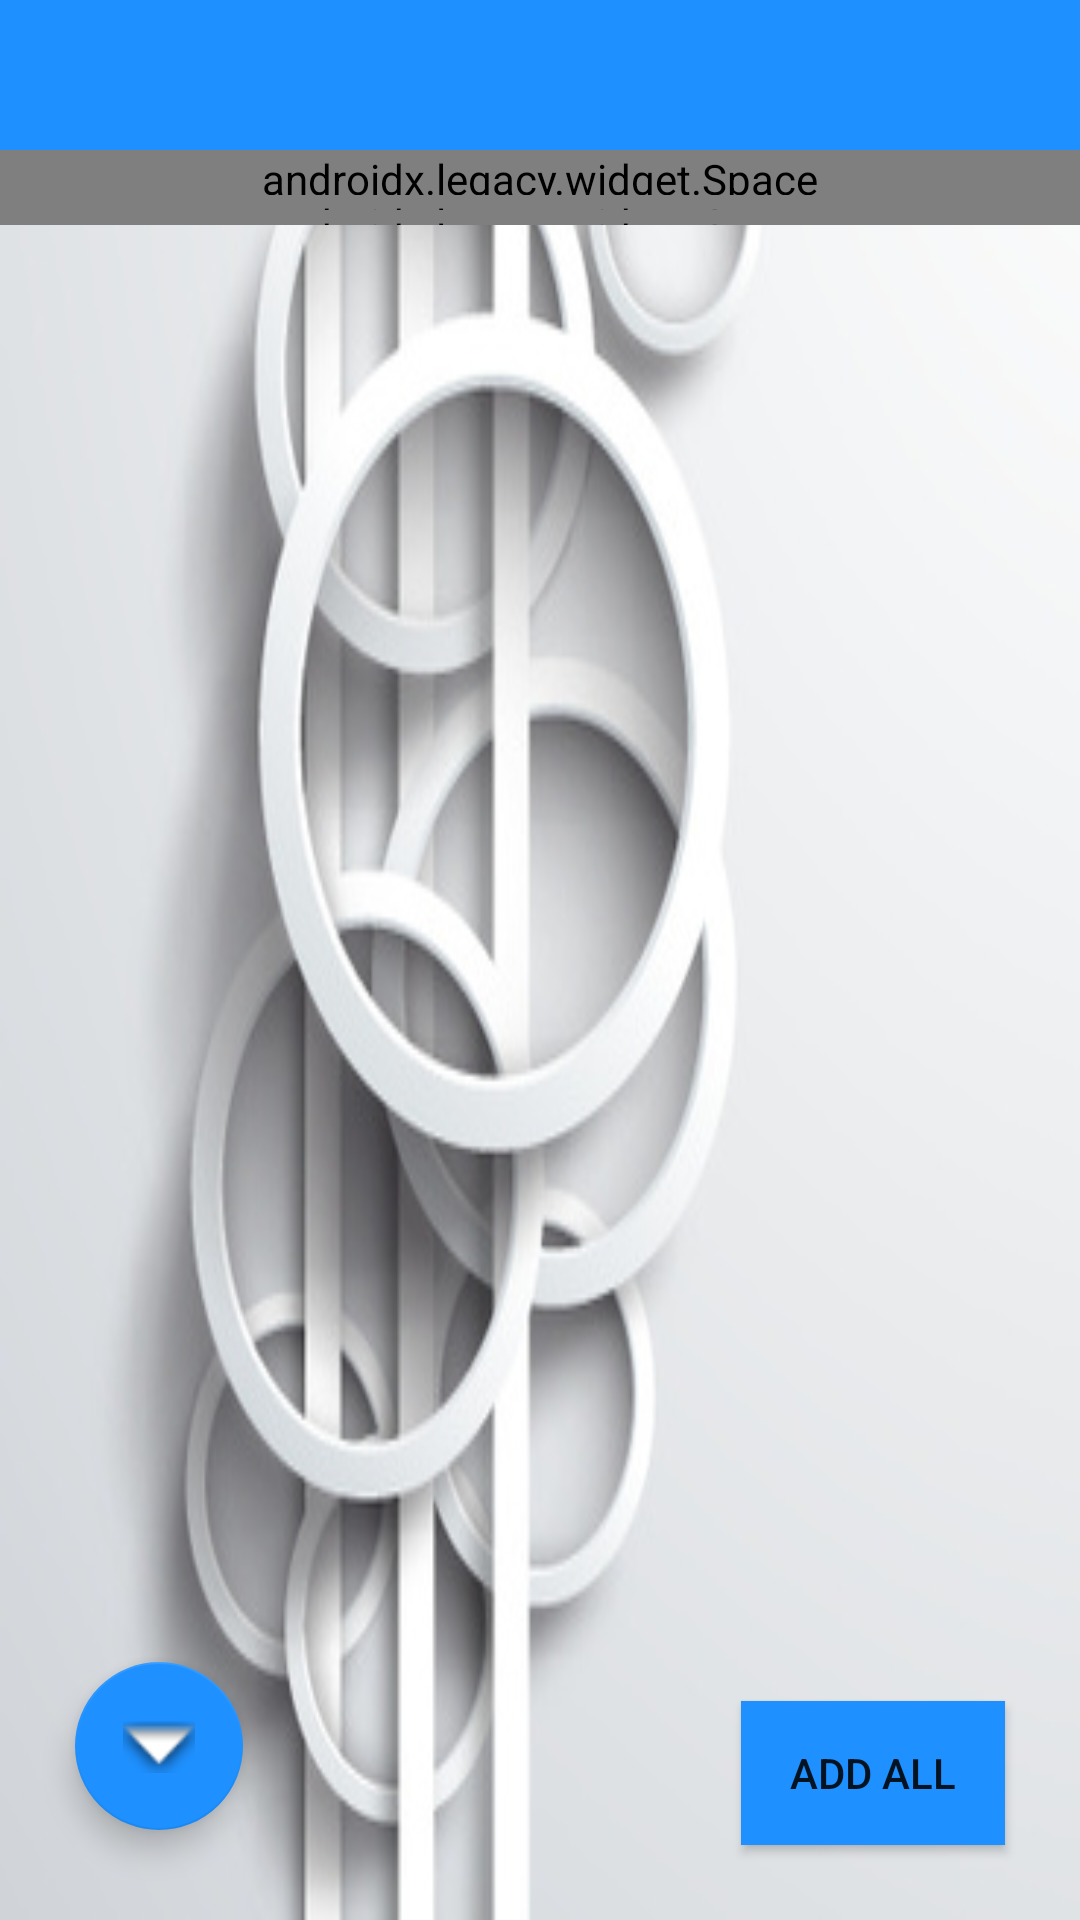

Where to tap for icons on this 1080w x 1920h app screen, as (x=x, y=y):
arrow down float: (x=159, y=1746)
